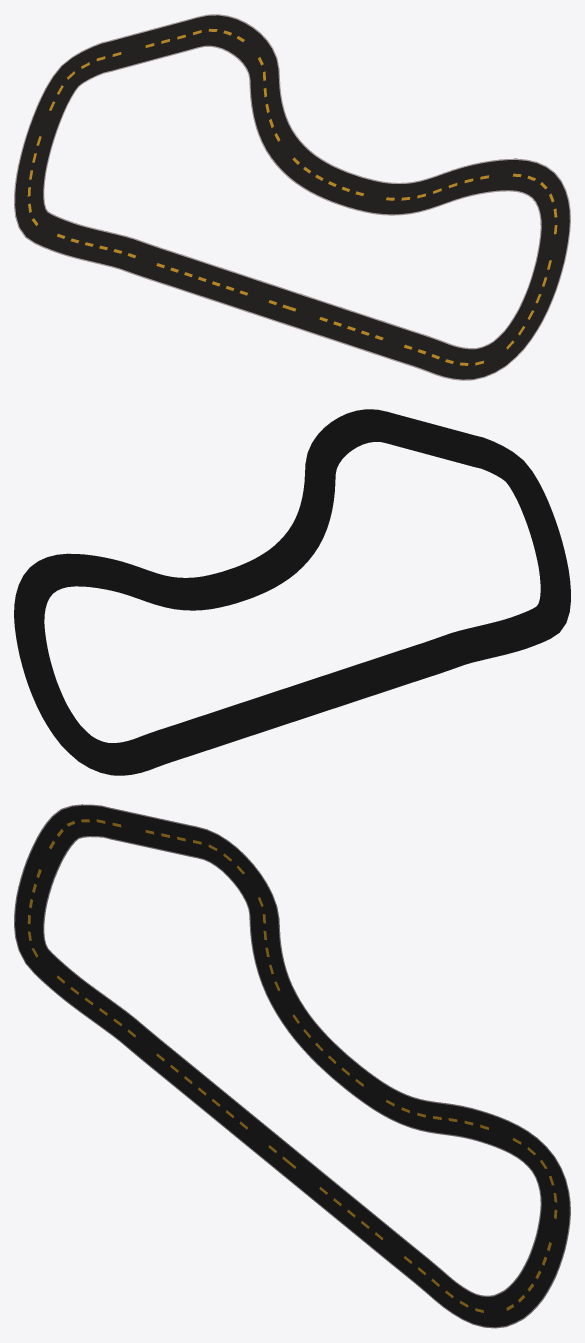
The model's file is track.obj.
The picture shows the model from 3 angles, top to bottom: view 1: azimuth 30°, elevation 25°; view 2: azimuth 150°, elevation 25°; view 3: azimuth 330°, elevation 25°; orthographic projection.
Size of the model in its own units: 19.54 by 14.45 by 0.002.
